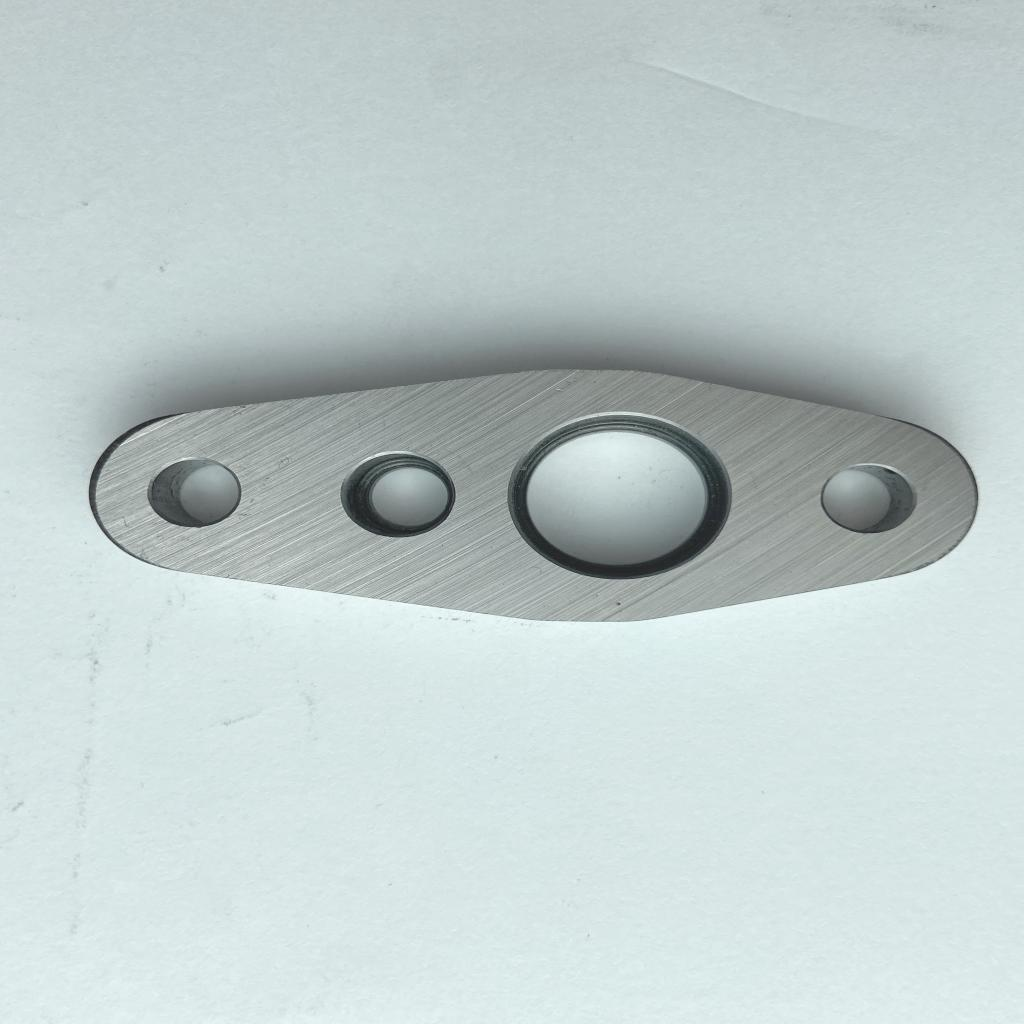chap: (552, 386, 568, 394), (612, 599, 623, 608)
